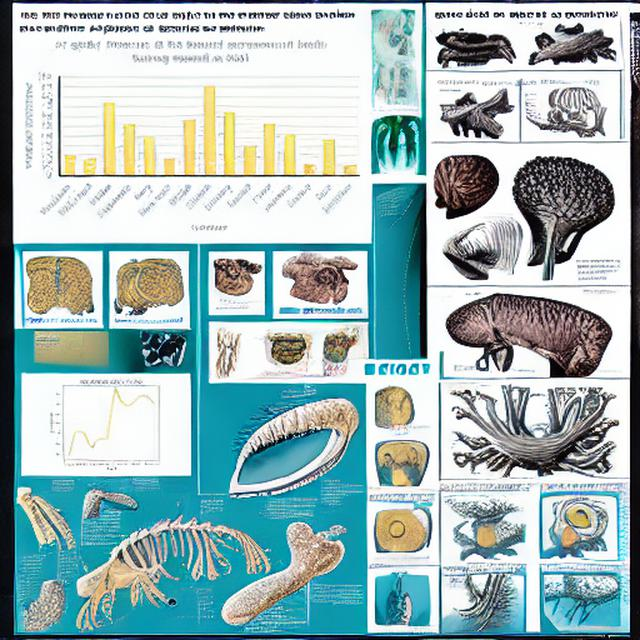Graph: (14, 34, 365, 235), (39, 374, 180, 471)
